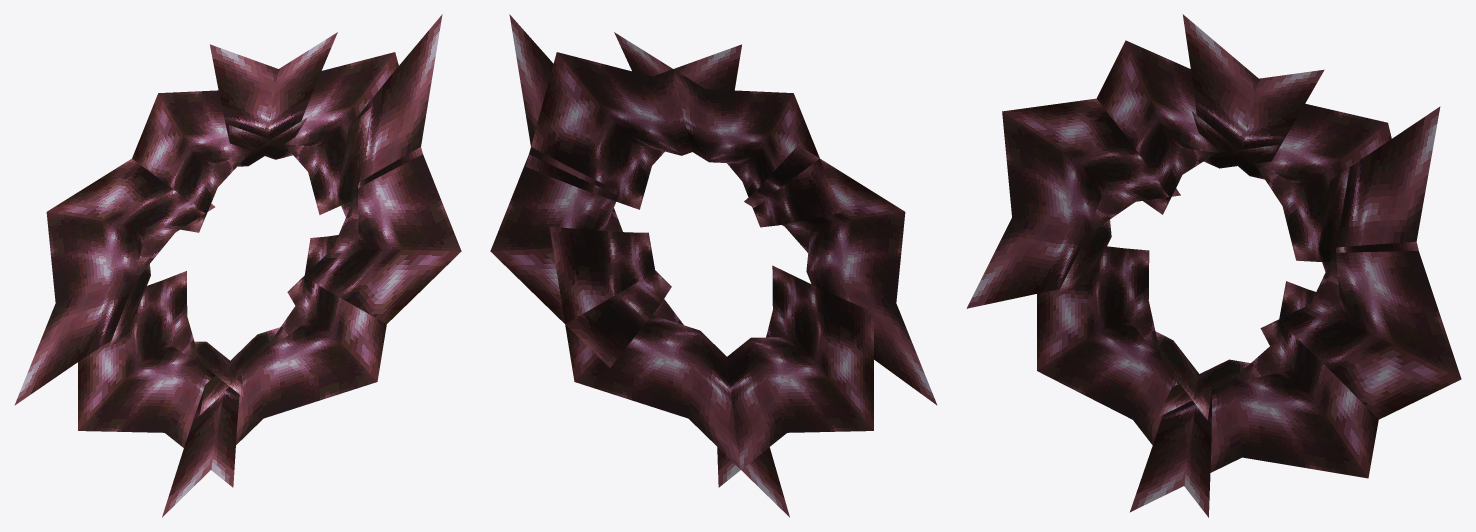
Rendered from tx_pet_xueji_hit.obj.
3 views of the same model, side by side, from view 1: azimuth 30°, elevation 25°; view 2: azimuth 150°, elevation 25°; view 3: azimuth 330°, elevation 25° (orthographic). The views are drawn at different scales.
Visible parts, largest first — view 1: Plane02; view 2: Plane02; view 3: Plane02.
Part boxes in pixels (x1=…): Plane02: x1=14, y1=14, x2=461, y2=517; Plane02: x1=490, y1=14, x2=937, y2=517; Plane02: x1=966, y1=14, x2=1461, y2=517.
Size of the model in its own units: 55.28 by 54.57 by 1.22.
Materials: 1 (1 with a texture image).
